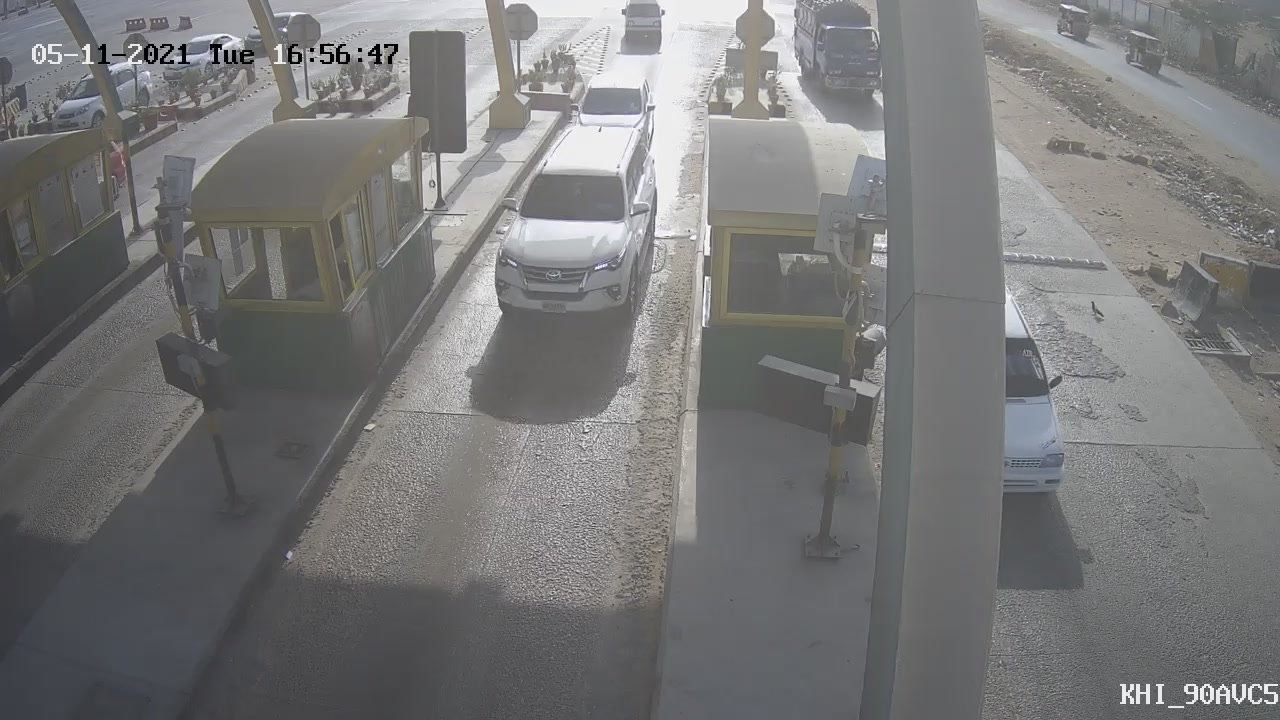F1: (476, 104, 685, 344)
